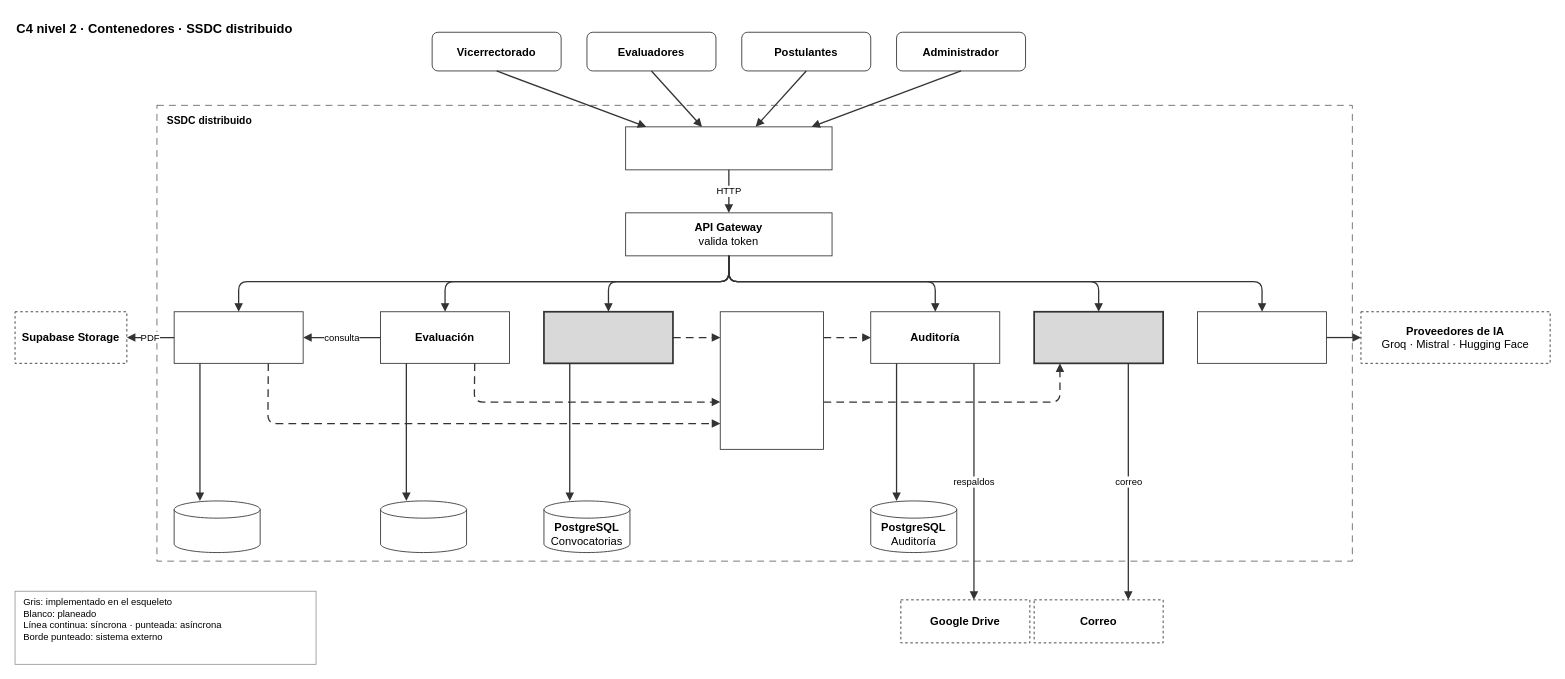
Some shapes in this 1565 by 679 pixel diagram are drawn without their labels. The shapes that lost their labels are listed below. From the top down, each one's centre as x and y in pixels, then its label:
At [728,148]: "Frontend [Angular]".
At [238,337]: "Postulaciones".
At [608,337]: "Convocatorias [Python]".
At [1098,337]: "Notificaciones [Python]".
At [1262,337]: "IA".
At [771,380]: "Cola de mensajes (ADR-002)".
At [216,526]: "PostgreSQL Postulaciones".
At [423,526]: "PostgreSQL Evaluación".
